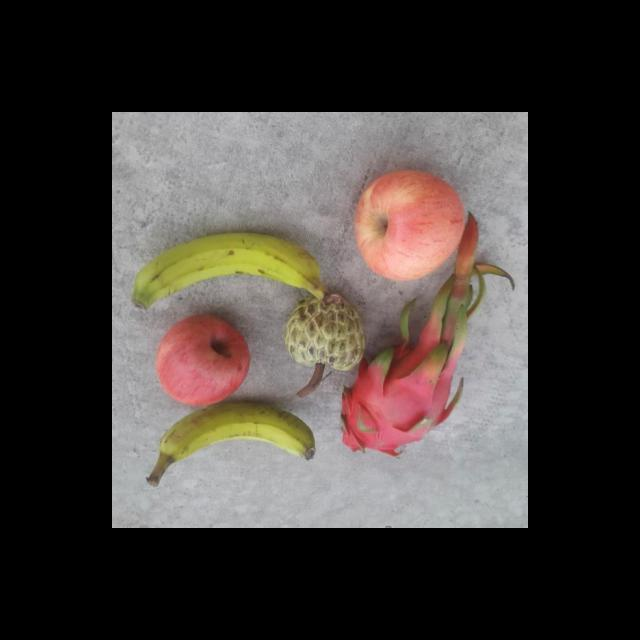Sakya fruit: (284, 290, 366, 399)
apple: (354, 161, 468, 281), (152, 312, 252, 409)
banana: (129, 232, 341, 312), (148, 399, 318, 488)
pitaya: (339, 334, 462, 456)
